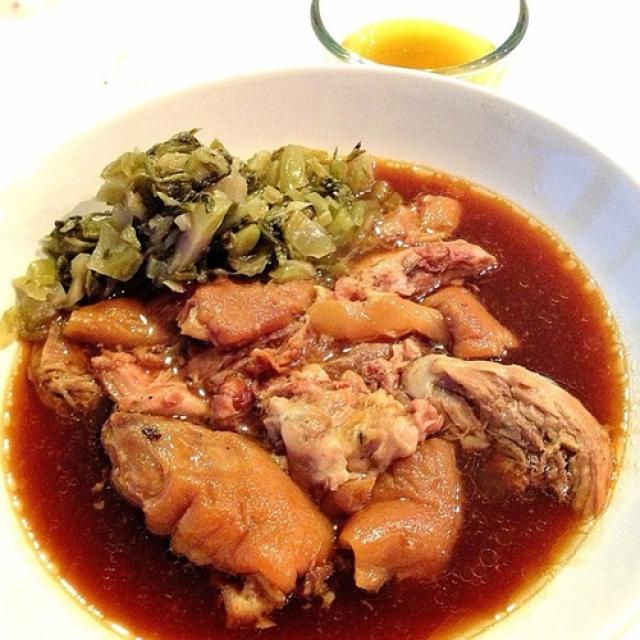猪肉菜式: (25, 82, 616, 616)
